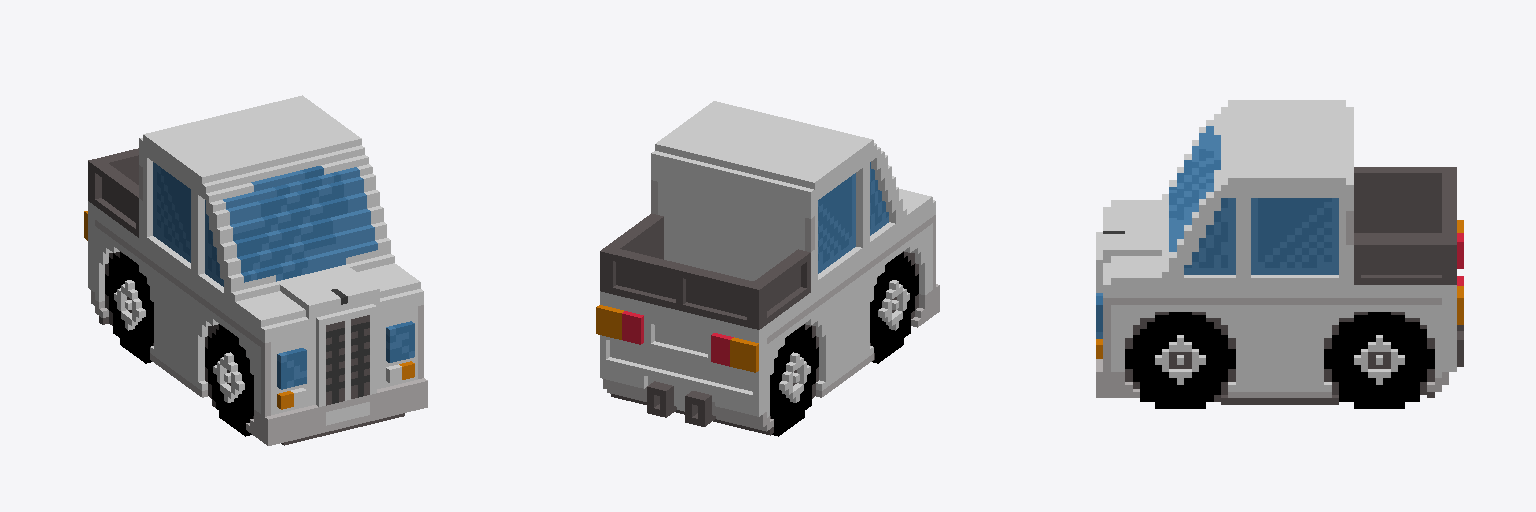
3 renders of one model, left to right at view 1: azimuth 30°, elevation 25°; view 2: azimuth 150°, elevation 25°; view 3: azimuth 270°, elevation 25°, orthographic.
Size of the model in its own units: 25 by 35 by 50.
1 materials, 1 textured.